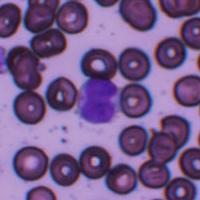M: (77, 78, 121, 125)
